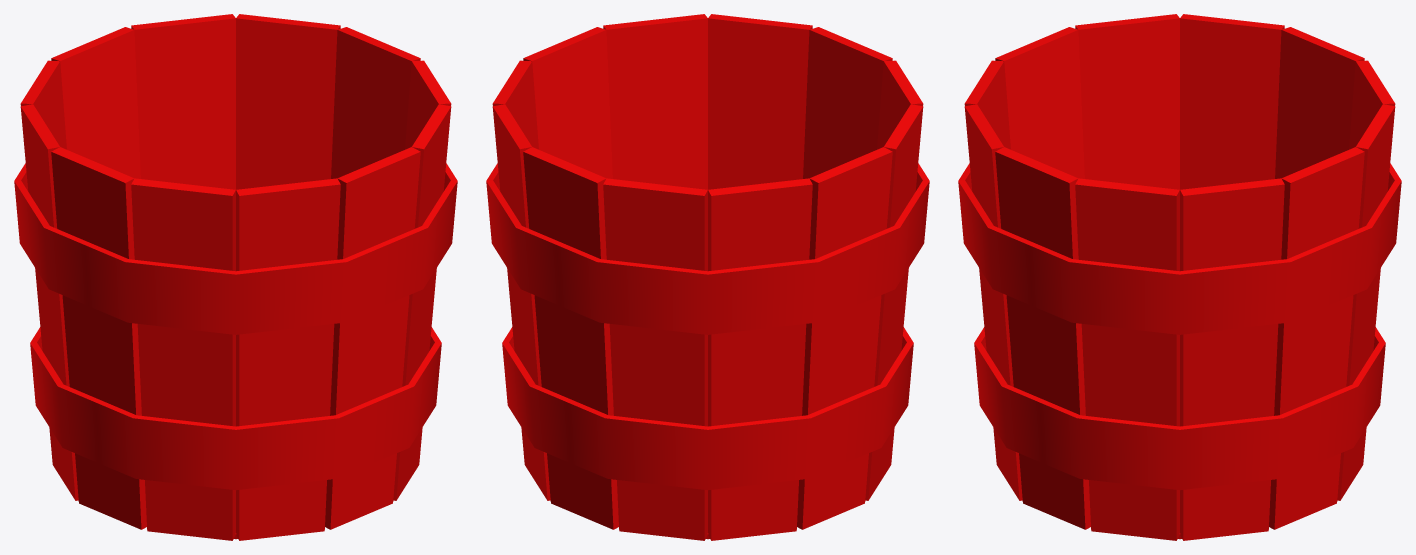
The model's file is boll2.fbx.
3 renders of one model, left to right at view 1: azimuth 30°, elevation 25°; view 2: azimuth 150°, elevation 25°; view 3: azimuth 270°, elevation 25°, orthographic.
Visible parts, largest first — view 1: boll2; view 2: boll2; view 3: boll2.
Part boxes in pixels (<box>): boll2: <box>14,14,457,540</box>; boll2: <box>486,14,929,540</box>; boll2: <box>958,14,1401,540</box>.
Size of the model in its own units: 43.71 by 40.1 by 43.71.
